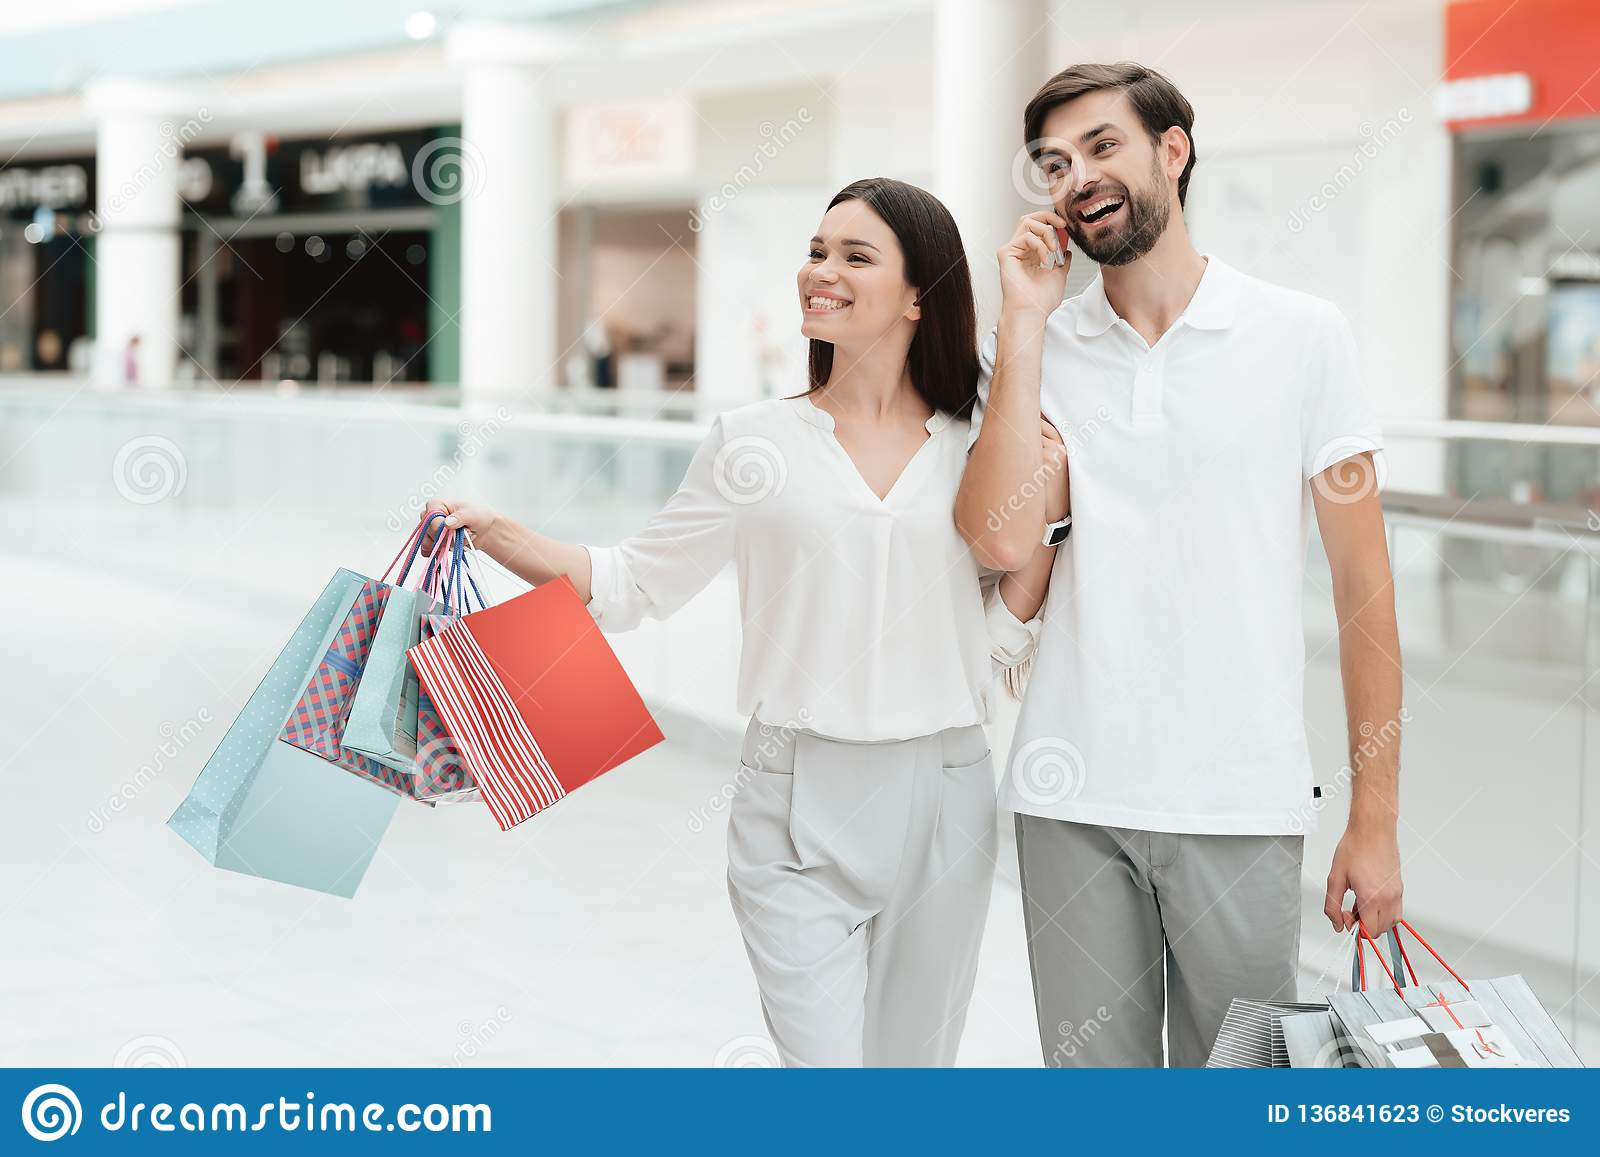phone: (1048, 198, 1071, 270)
talk: (998, 121, 1139, 326)
